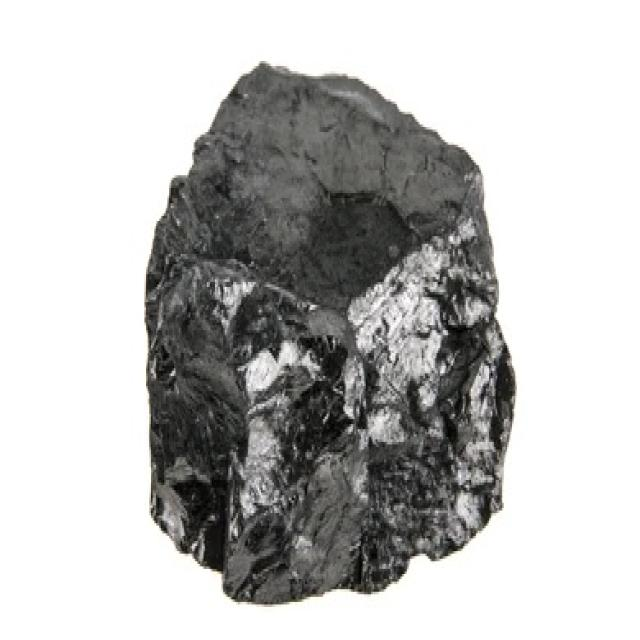Sedimentary: (138, 53, 523, 617)
